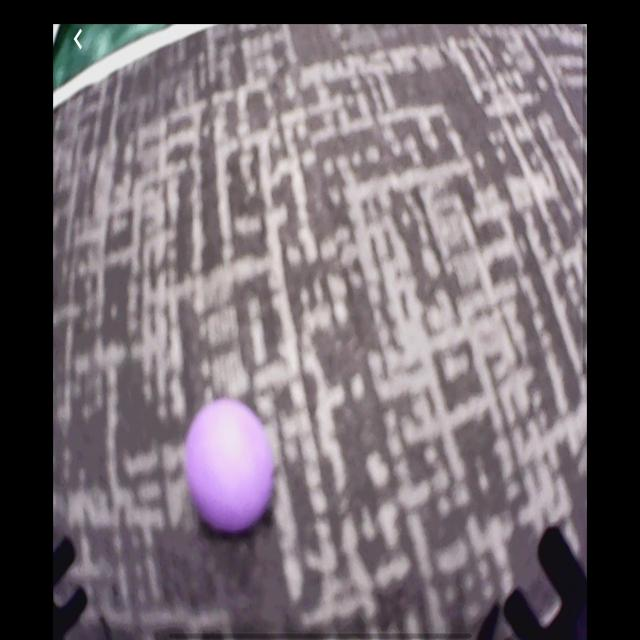ball: (188, 400, 275, 533)
